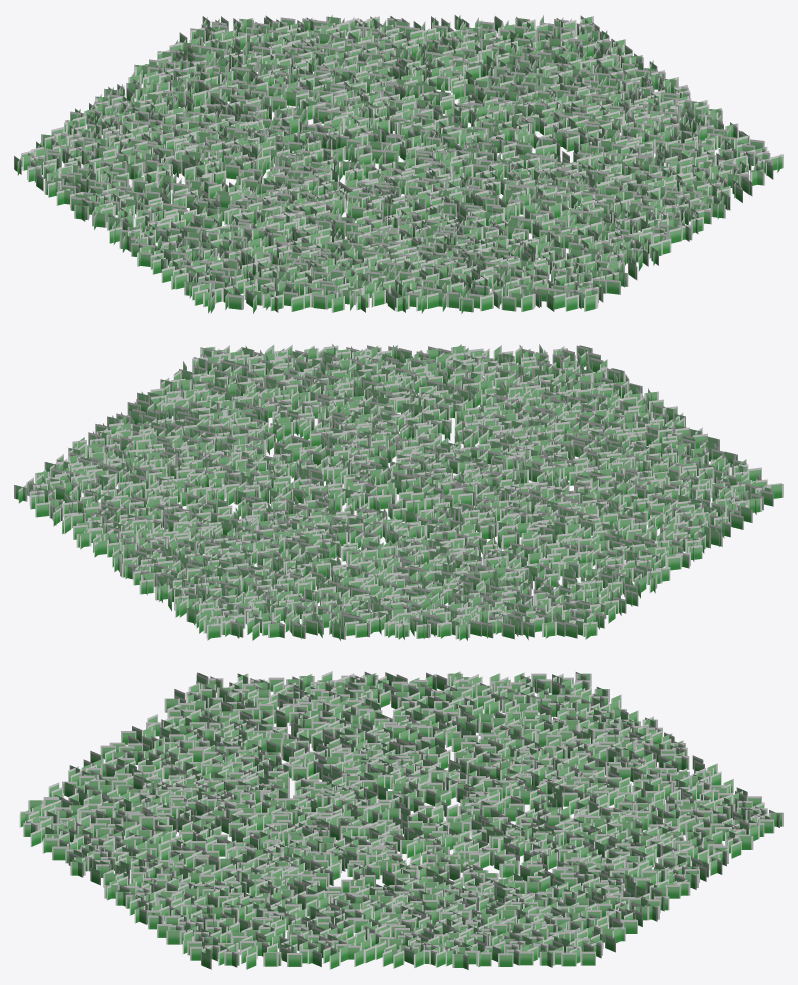
The model's file is GrassOnly.fbx.
3 renders of one model, top to bottom at view 1: azimuth 30°, elevation 25°; view 2: azimuth 150°, elevation 25°; view 3: azimuth 270°, elevation 25°, orthographic.
Visible parts, largest first — view 1: Plane.1240; view 2: Plane.1240; view 3: Plane.1240.
Boxes of the visible parts, x1=… form: Plane.1240: x1=14, y1=14, x2=783, y2=314; Plane.1240: x1=14, y1=344, x2=783, y2=640; Plane.1240: x1=19, y1=671, x2=783, y2=969.
Size of the model in its own units: 17.69 by 0.4122 by 20.06.
